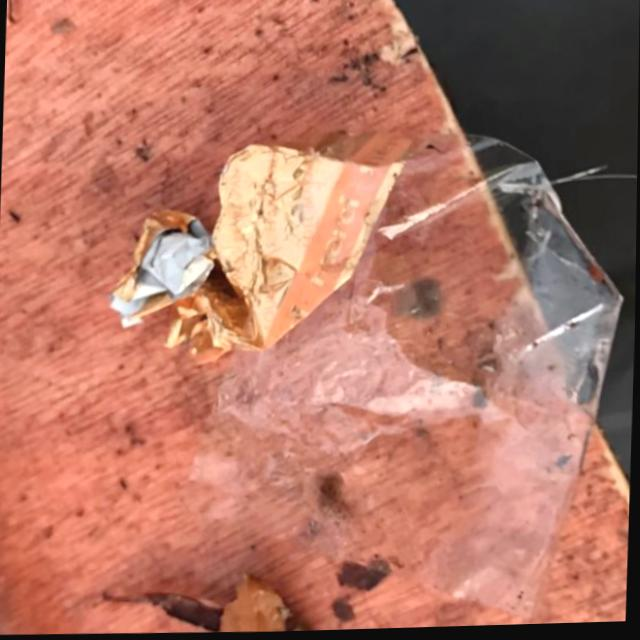Plastic: (93, 115, 635, 638)
